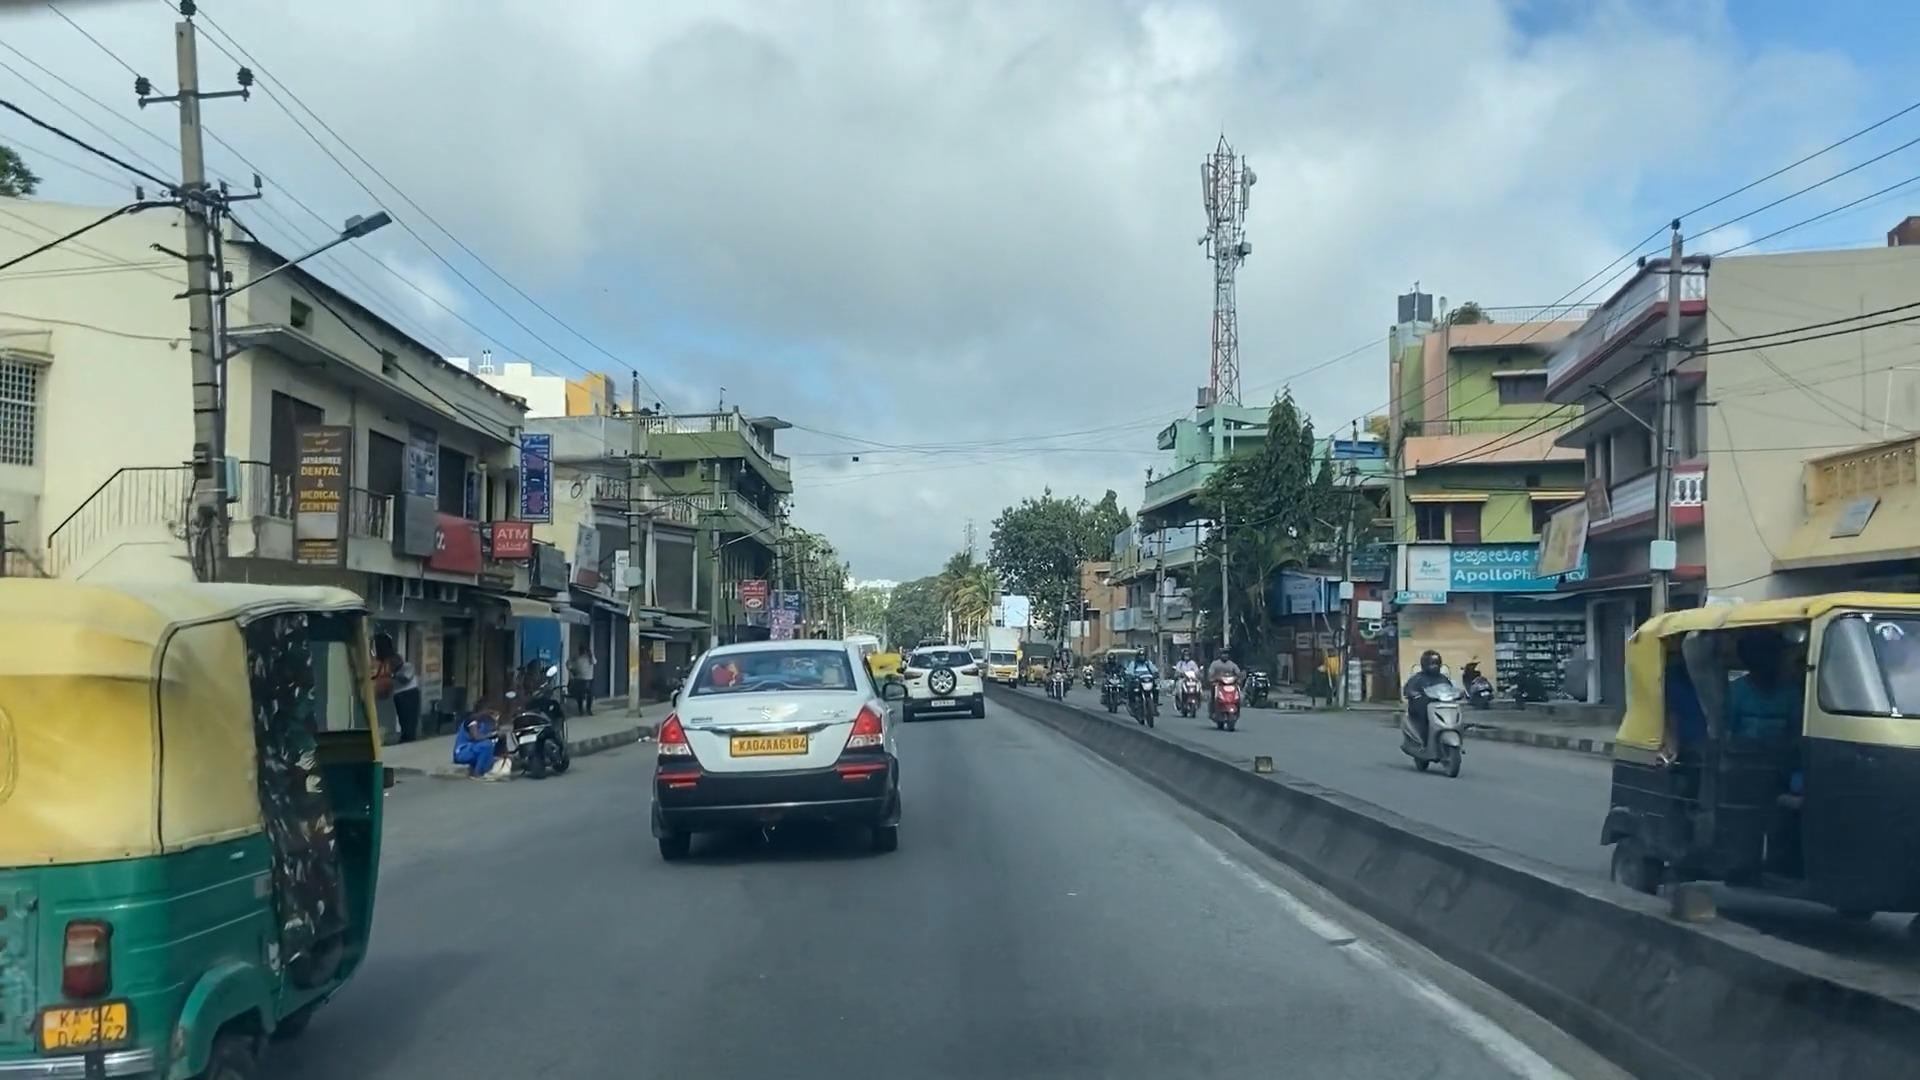LMV: (657, 644, 898, 860), (506, 674, 563, 787), (903, 646, 985, 720)
